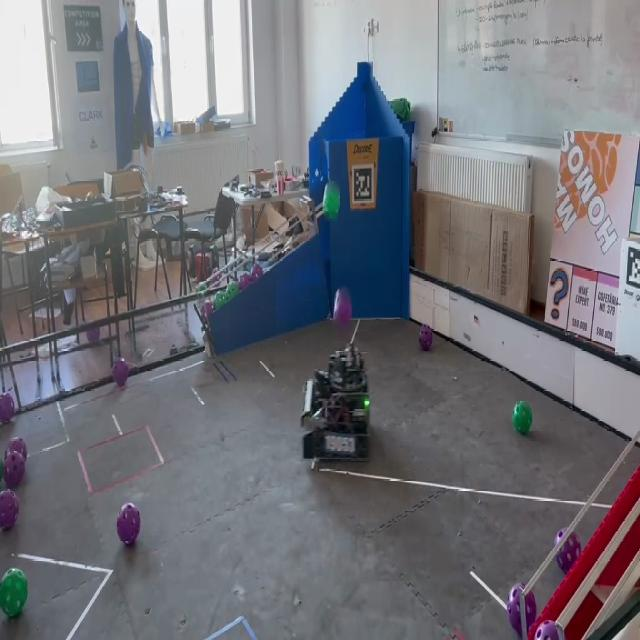artifact_green: (0, 569, 28, 617), (513, 401, 532, 435), (323, 182, 339, 220), (226, 282, 239, 301), (215, 290, 228, 309), (203, 300, 214, 319), (214, 290, 224, 309), (197, 283, 208, 293), (223, 292, 229, 304), (0, 458, 3, 480)
artifact_purple: (555, 529, 581, 574), (117, 504, 141, 545), (507, 584, 524, 635), (3, 452, 25, 488), (0, 489, 19, 530), (334, 288, 352, 326), (5, 437, 27, 460), (112, 358, 129, 387), (0, 393, 14, 424), (535, 622, 559, 639), (419, 325, 433, 351), (239, 273, 251, 291), (87, 327, 100, 343), (203, 300, 213, 319), (210, 268, 222, 283), (252, 264, 263, 280), (200, 306, 206, 318), (250, 274, 256, 284)
